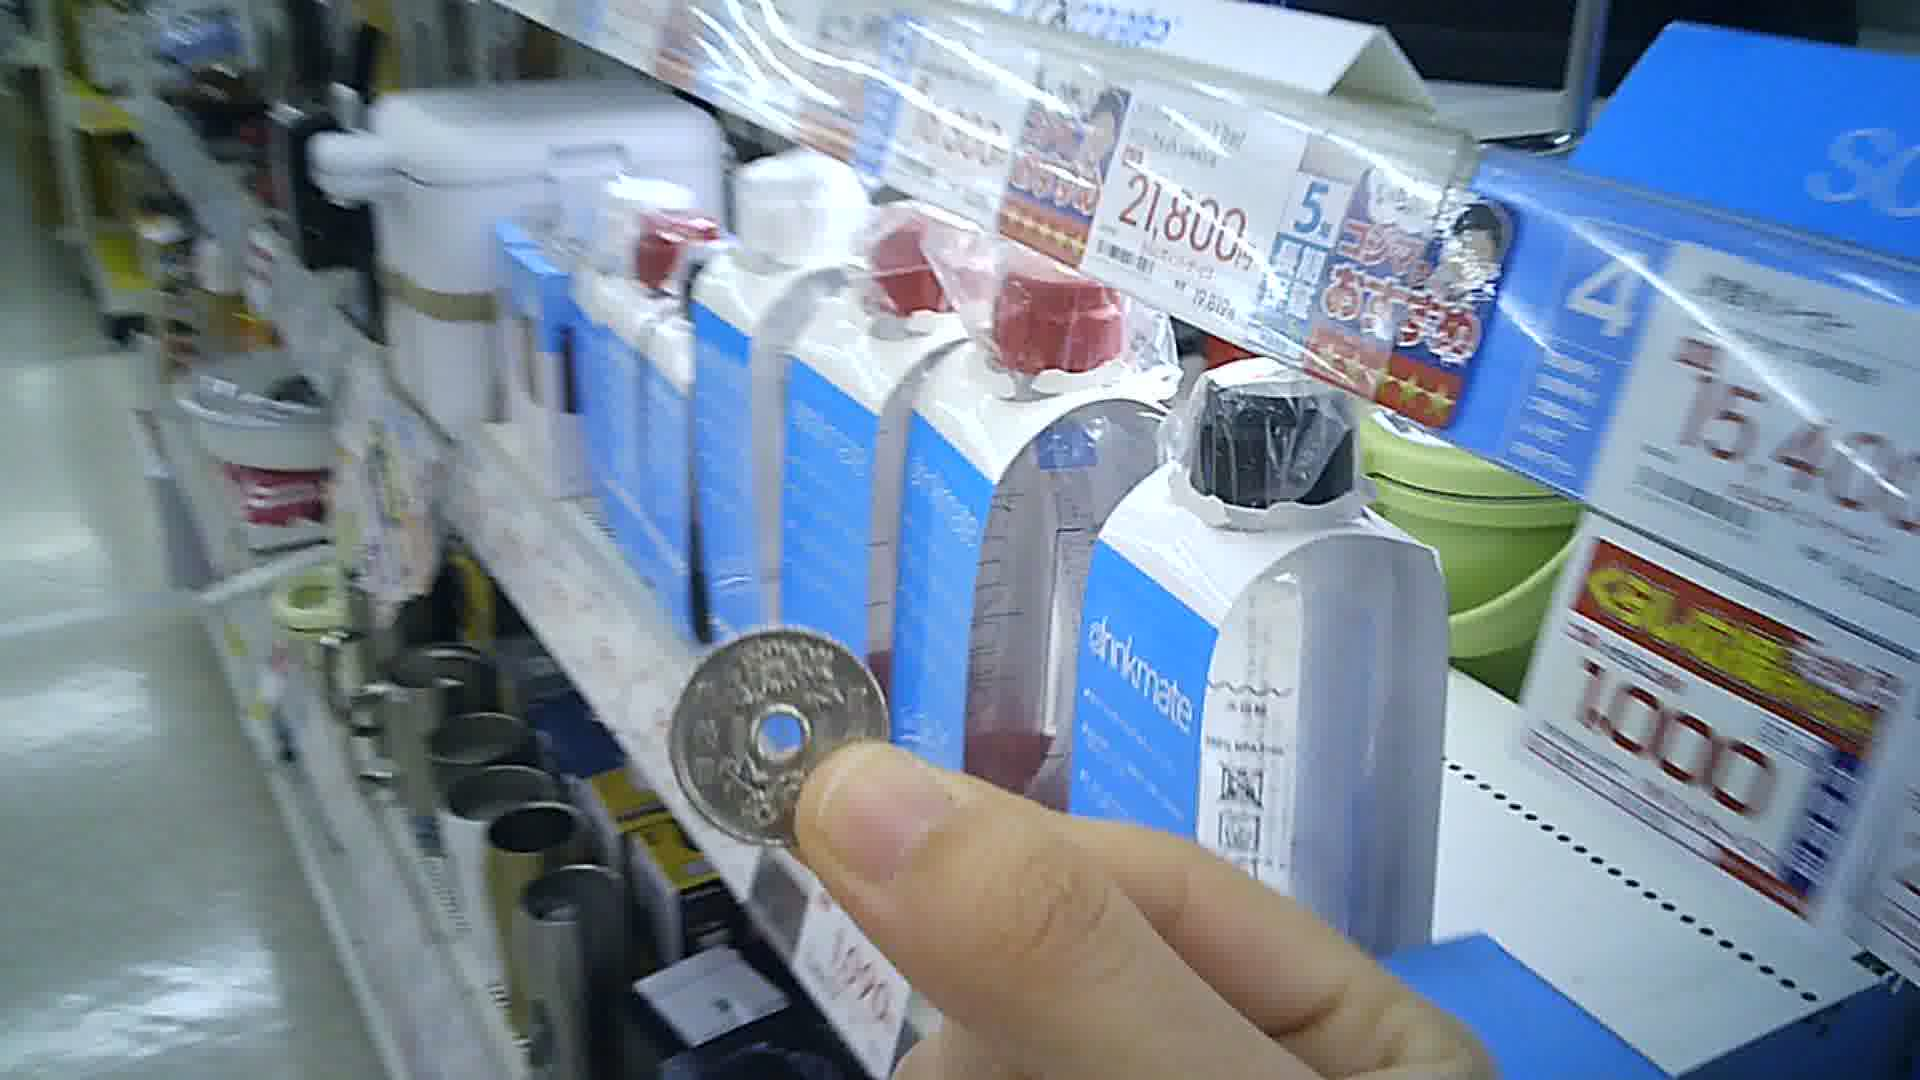50 Yen: (658, 624, 893, 858)
